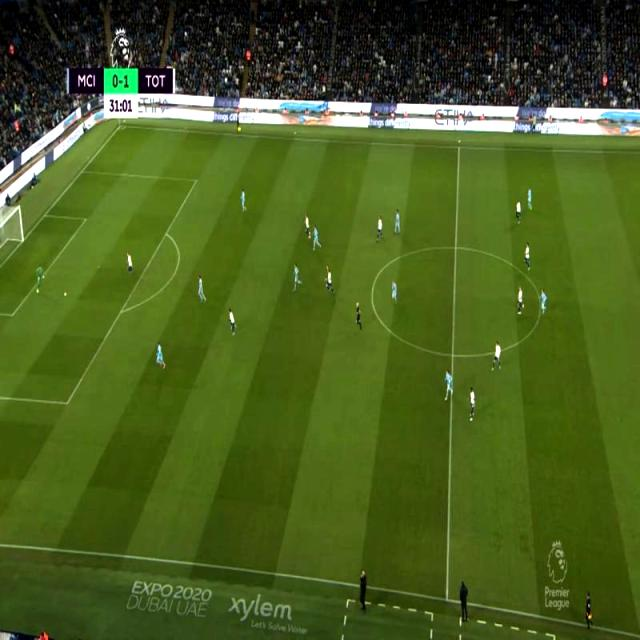bigarea_bottom_inner: (60, 397, 74, 410), (5, 310, 18, 322)
bigarea_top_inner: (190, 175, 203, 187)
bigarea_top_outter: (78, 163, 88, 180)
bottom_arc_area_intersection: (114, 306, 128, 318)
corner: (113, 120, 127, 134)
halfcircle_bottom: (446, 350, 459, 362)
halfcircle_top: (450, 242, 462, 254)
midline_bottom_intersection: (439, 591, 455, 609)
midline_top_intersection: (454, 143, 464, 153)
smallarea_top_inner: (82, 213, 90, 224)
smallarea_top_outter: (40, 210, 50, 222)
top_arc_area_intersection: (160, 228, 172, 241)
